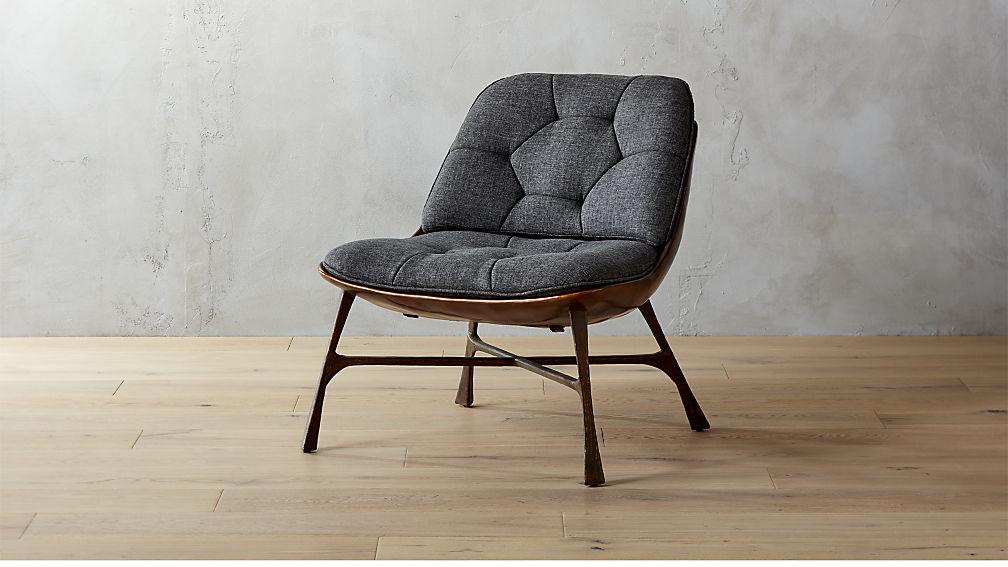chair: (298, 49, 759, 500)
